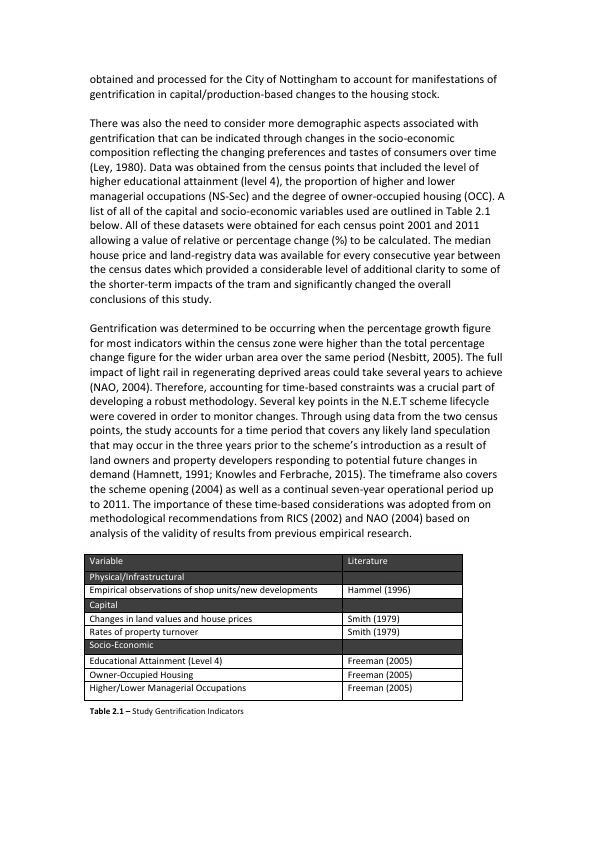table: (84, 553, 464, 701)
text: (87, 322, 506, 541), (87, 116, 508, 306), (88, 74, 499, 101), (87, 706, 245, 717)
